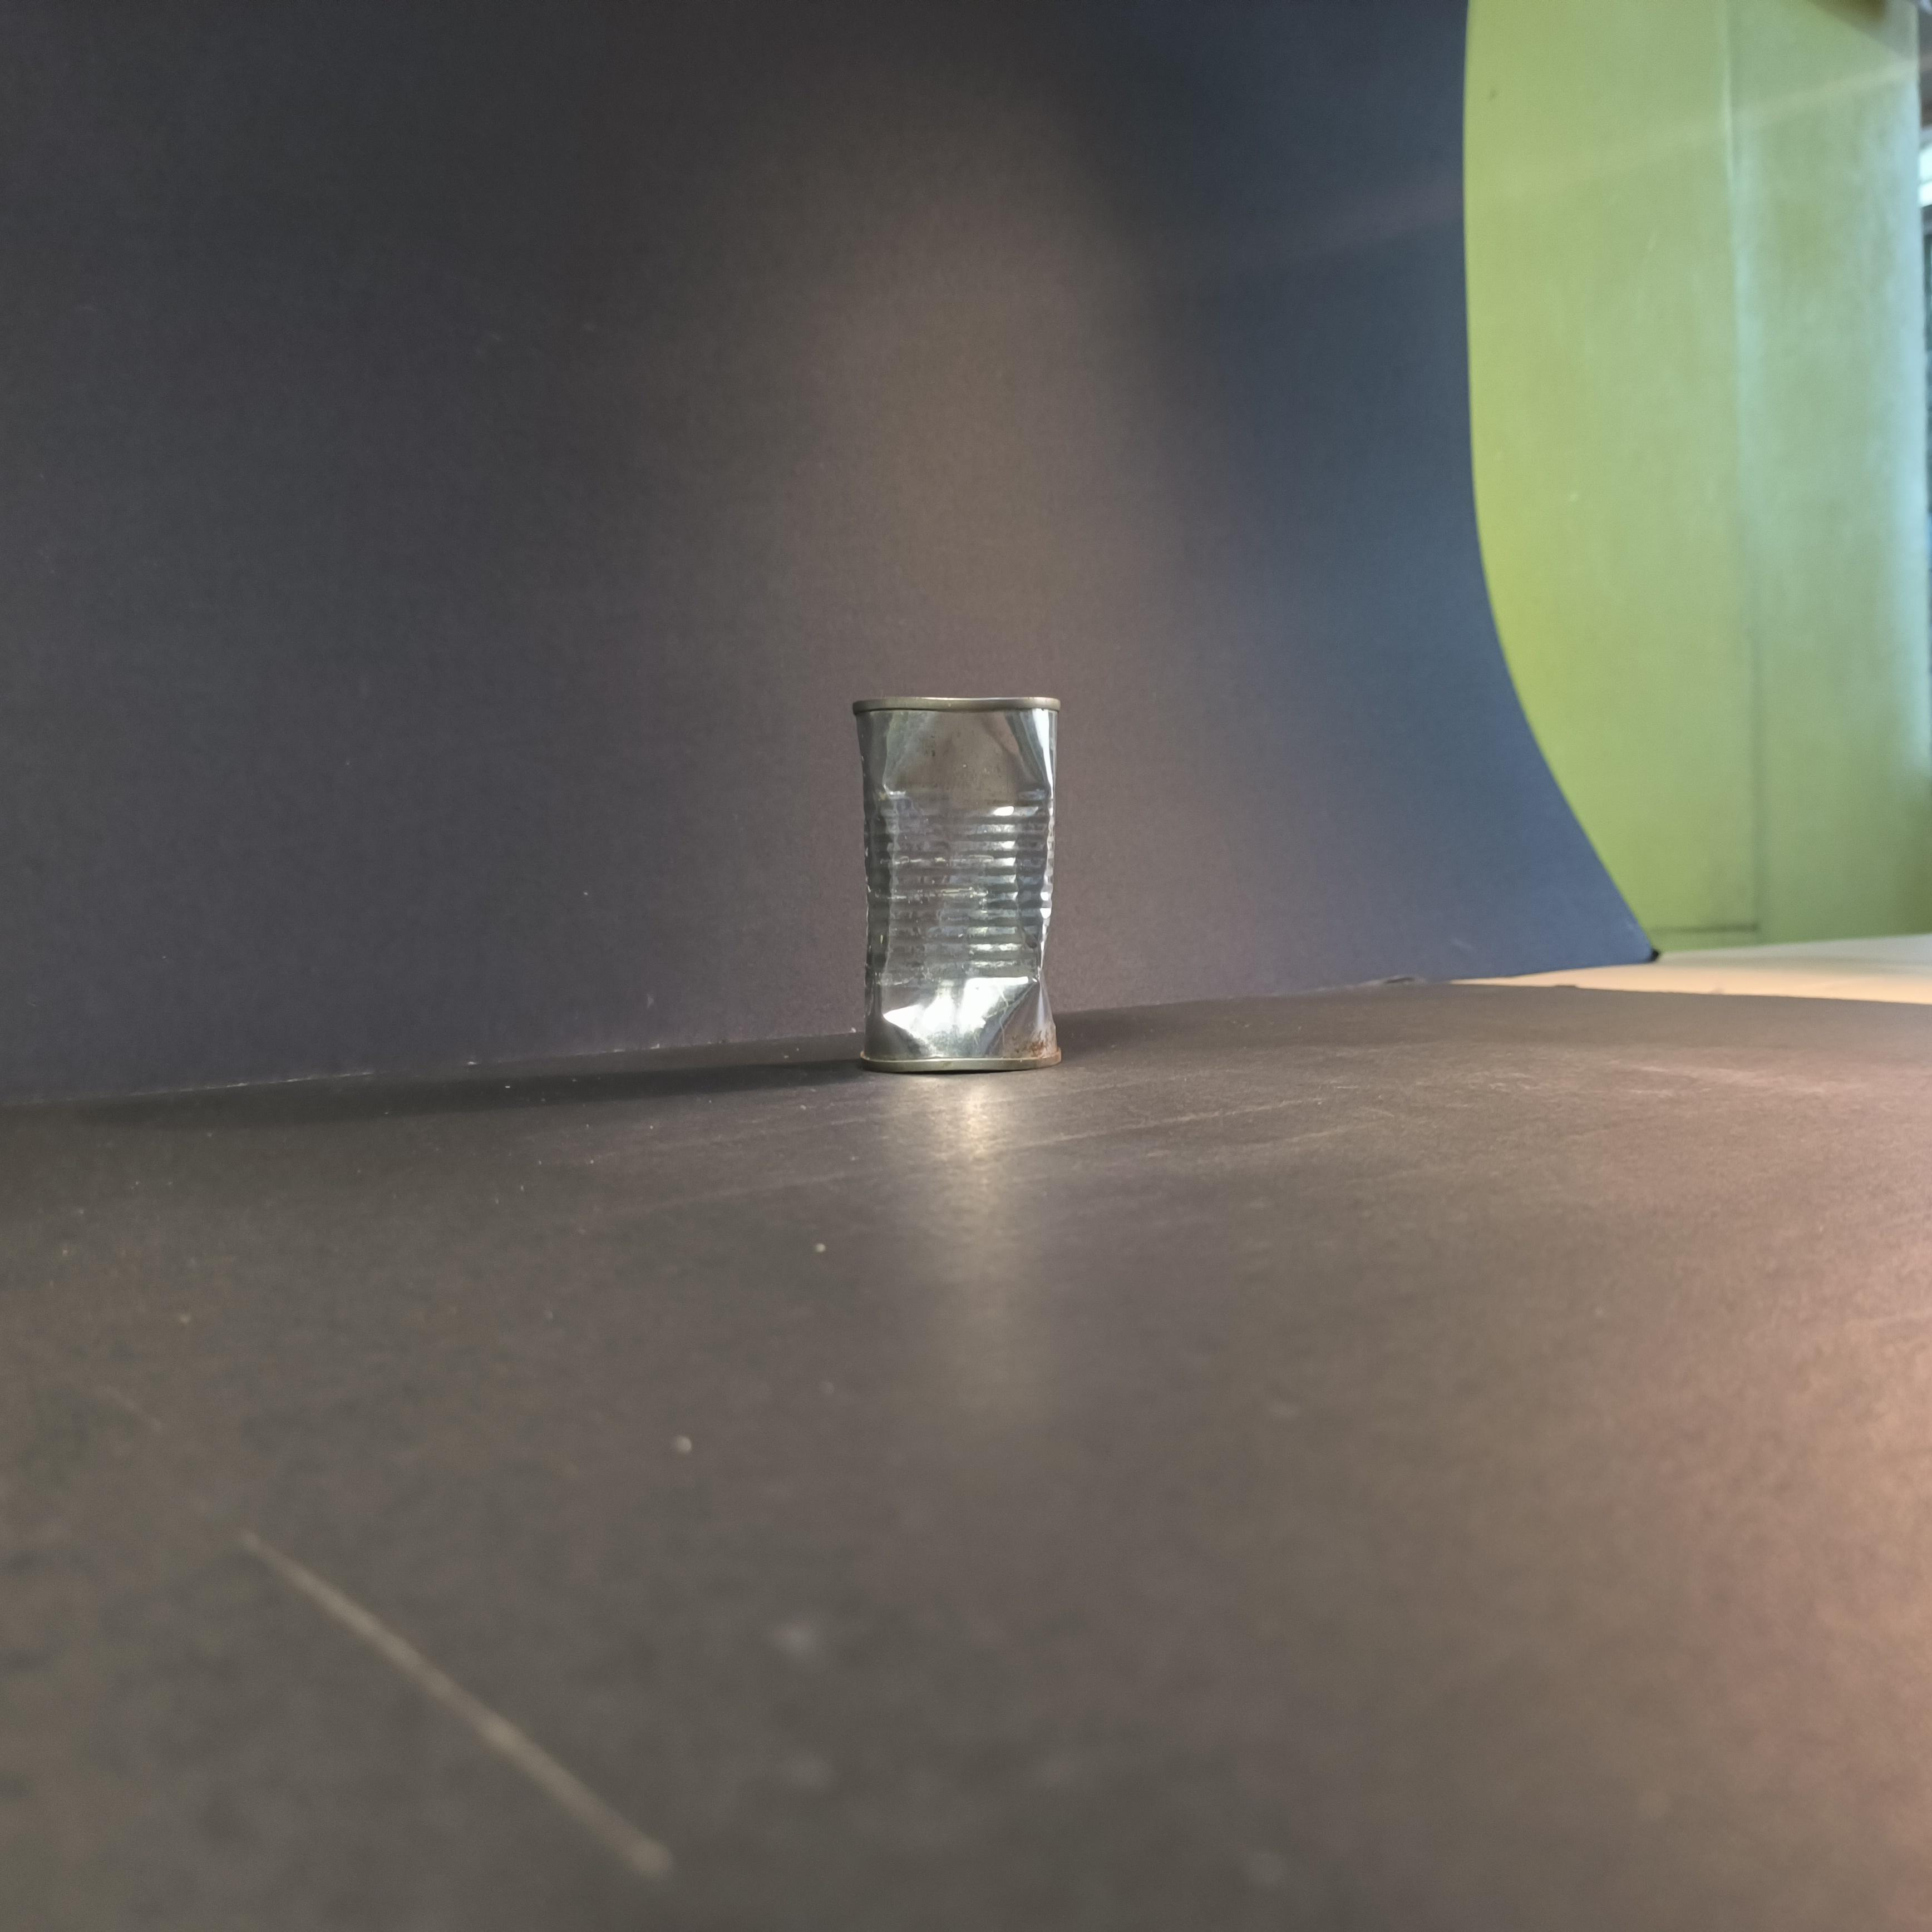Dented: (832, 679, 1077, 1083)
